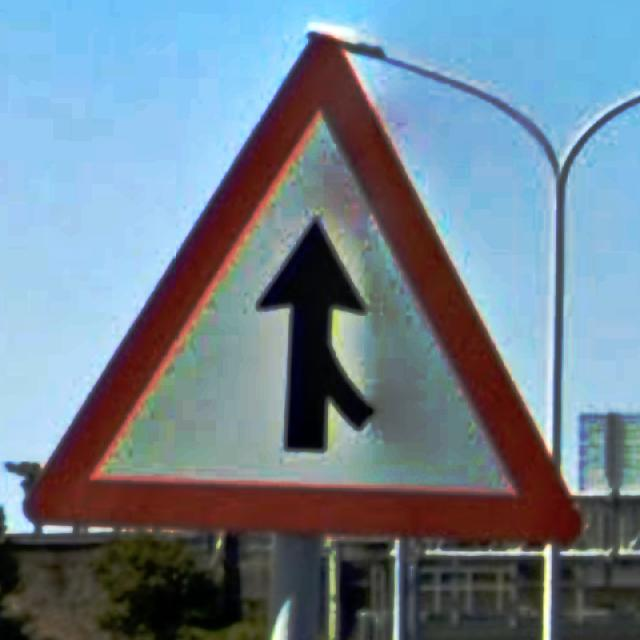rightmerge: (24, 37, 584, 549)
